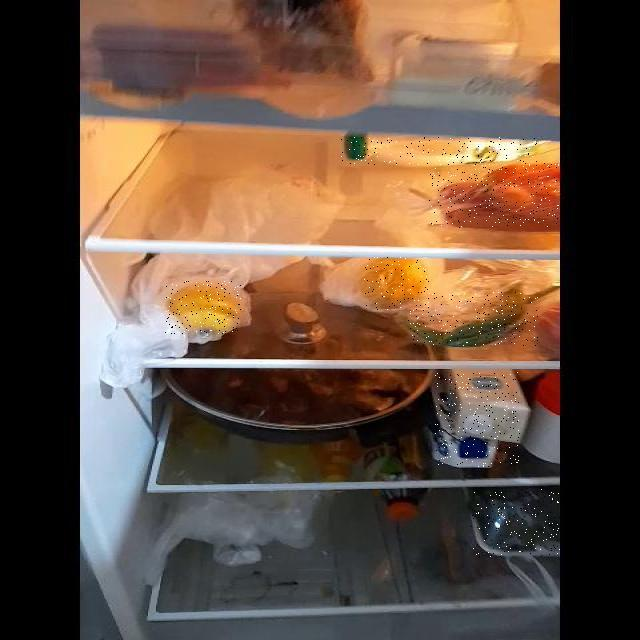broccoli: (471, 487, 560, 557)
carrot: (429, 163, 559, 228)
green chilies: (407, 292, 538, 346)
lemon: (165, 281, 241, 334), (364, 257, 429, 310)
milk: (435, 372, 520, 467), (341, 137, 539, 165)
